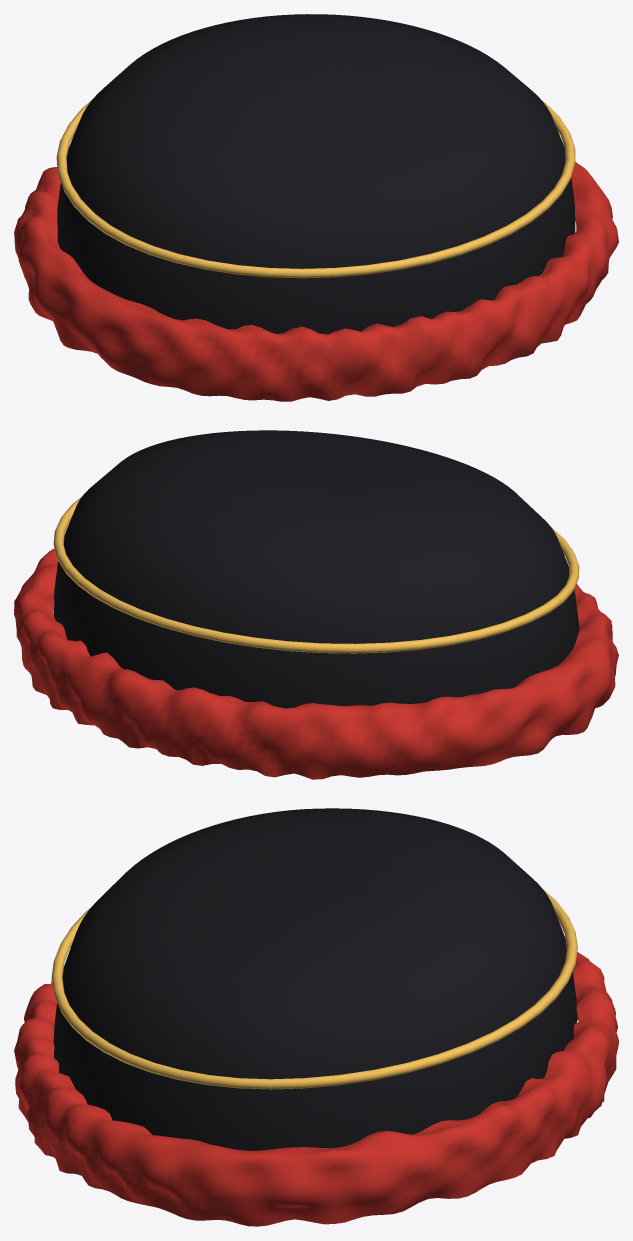
The model's file is hw_borik.glb.
The picture shows the model from 3 angles, top to bottom: view 1: azimuth 30°, elevation 25°; view 2: azimuth 150°, elevation 25°; view 3: azimuth 270°, elevation 25°; orthographic projection. The views are drawn at different scales.
Parts seen in each view (by area): view 1: hw_borik, hw_borik_fur, hw_borik_gold; view 2: hw_borik, hw_borik_fur, hw_borik_gold; view 3: hw_borik, hw_borik_fur, hw_borik_gold.
Part boxes in pixels (x1,y1,x2,y2): hw_borik: (57,14,575,334); hw_borik_fur: (14,161,618,401); hw_borik_gold: (56,99,575,278); hw_borik: (53,430,578,708); hw_borik_fur: (14,548,618,779); hw_borik_gold: (53,497,579,653); hw_borik: (53,808,576,1150); hw_borik_fur: (14,952,618,1226); hw_borik_gold: (51,890,577,1089).
Bounding box in the file's own units: 0.9803 × 0.3794 × 0.8774.
